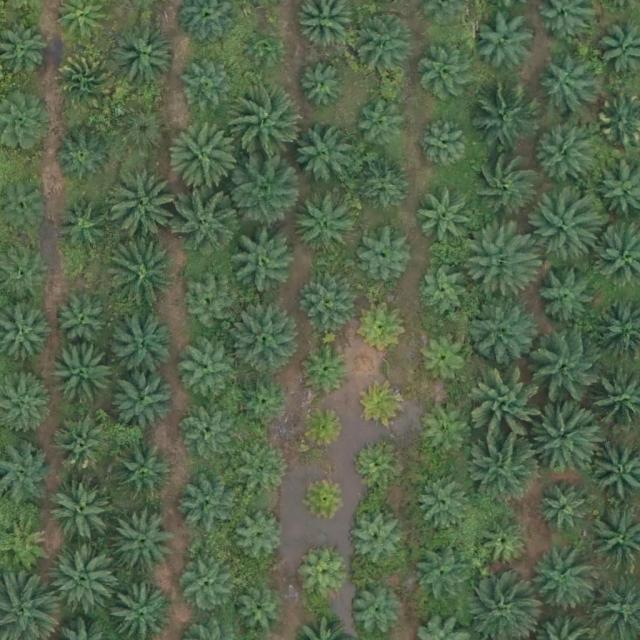Healthy: (229, 226, 300, 297), (170, 121, 241, 192), (533, 196, 603, 267), (531, 400, 601, 471), (470, 434, 541, 504), (474, 374, 544, 445), (469, 152, 539, 223), (471, 86, 541, 157), (233, 89, 303, 160), (229, 157, 299, 228), (173, 186, 243, 257), (107, 172, 177, 243), (104, 243, 175, 313), (526, 548, 596, 618), (51, 549, 121, 619), (534, 335, 604, 405), (466, 295, 536, 365), (466, 223, 536, 293), (230, 303, 300, 373), (112, 508, 175, 571), (415, 189, 478, 252), (292, 125, 355, 188), (50, 476, 113, 539), (112, 441, 175, 504), (179, 473, 242, 536), (530, 125, 593, 187), (534, 261, 596, 324), (479, 11, 541, 74), (350, 11, 412, 74), (293, 191, 355, 254), (112, 22, 174, 85), (110, 316, 172, 379), (113, 368, 175, 431), (52, 346, 114, 409), (417, 117, 472, 173), (476, 517, 531, 572), (348, 513, 403, 568), (348, 585, 403, 640), (233, 510, 288, 565), (176, 558, 231, 613), (236, 375, 291, 430), (236, 449, 291, 504), (538, 59, 593, 114), (538, 483, 593, 538), (422, 49, 477, 104), (357, 160, 412, 215), (356, 94, 411, 149), (113, 105, 168, 160), (54, 196, 109, 251), (415, 330, 470, 385), (418, 407, 473, 462), (417, 475, 472, 530), (355, 229, 410, 284), (180, 348, 235, 403), (181, 405, 236, 460), (183, 278, 238, 333), (181, 62, 236, 117), (53, 419, 108, 474), (57, 129, 112, 184), (57, 290, 112, 345), (413, 548, 467, 603), (417, 266, 471, 321), (301, 273, 355, 328)
Small: (352, 441, 399, 489), (299, 63, 346, 110), (305, 345, 352, 392), (244, 28, 283, 67)
Yellow: (57, 51, 120, 113), (300, 553, 347, 601), (303, 474, 350, 522), (361, 381, 408, 429), (300, 406, 347, 453), (361, 305, 408, 352)
